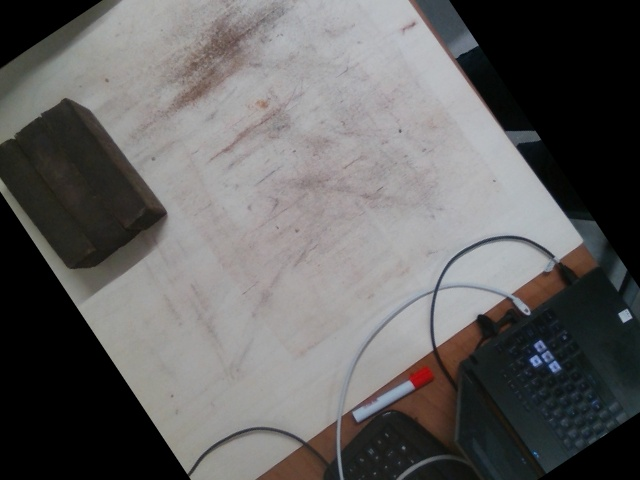brick-side: (43, 99, 148, 227), (13, 117, 118, 245)
